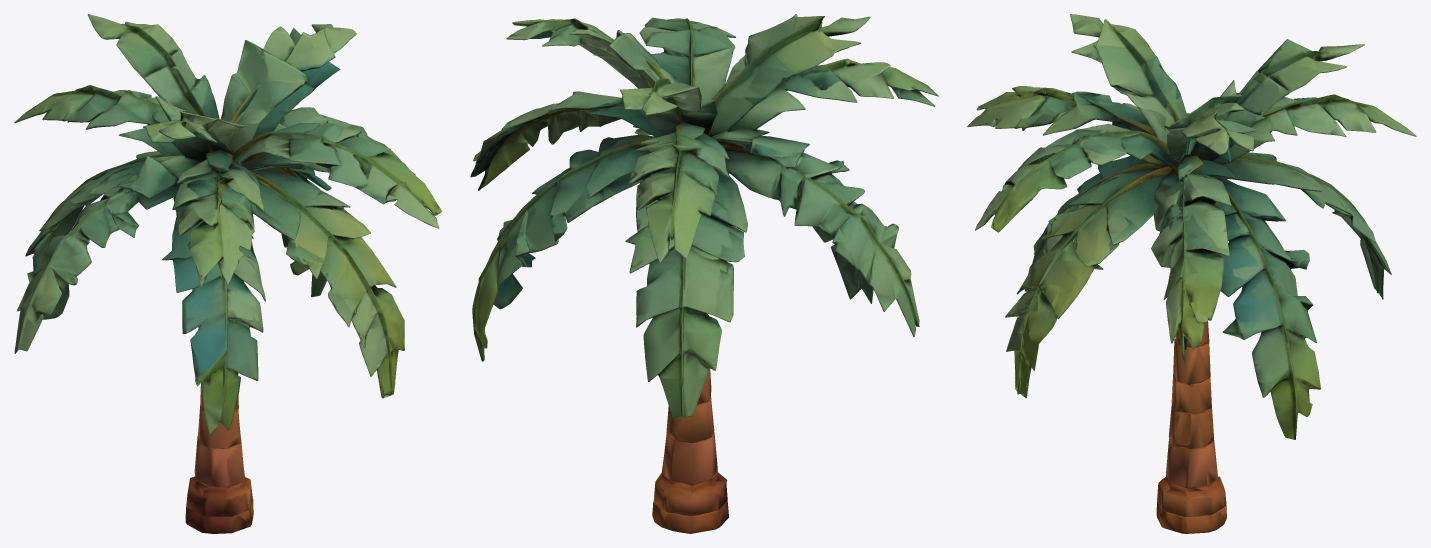
File: palm_tree.glb
3 renders of one model, left to right at view 1: azimuth 30°, elevation 25°; view 2: azimuth 150°, elevation 25°; view 3: azimuth 270°, elevation 25°, orthographic. The views are drawn at different scales.
Parts seen in each view (by area): view 1: tripo_node_79fa56a2-452e-4cc7-97d4-339193fec952; view 2: tripo_node_79fa56a2-452e-4cc7-97d4-339193fec952; view 3: tripo_node_79fa56a2-452e-4cc7-97d4-339193fec952.
Boxes of the visible parts, left/top/right/bottom form: tripo_node_79fa56a2-452e-4cc7-97d4-339193fec952: left=14, top=14, right=441, bottom=533; tripo_node_79fa56a2-452e-4cc7-97d4-339193fec952: left=470, top=14, right=938, bottom=533; tripo_node_79fa56a2-452e-4cc7-97d4-339193fec952: left=967, top=14, right=1416, bottom=533.
Size of the model in its own units: 0.9227 by 0.9774 by 0.8659.
Materials: 1 (1 with a texture image).
